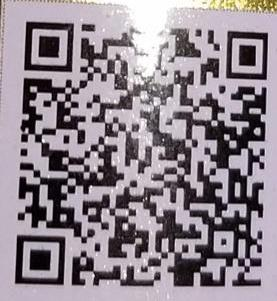qrcode: (16, 22, 270, 288)
